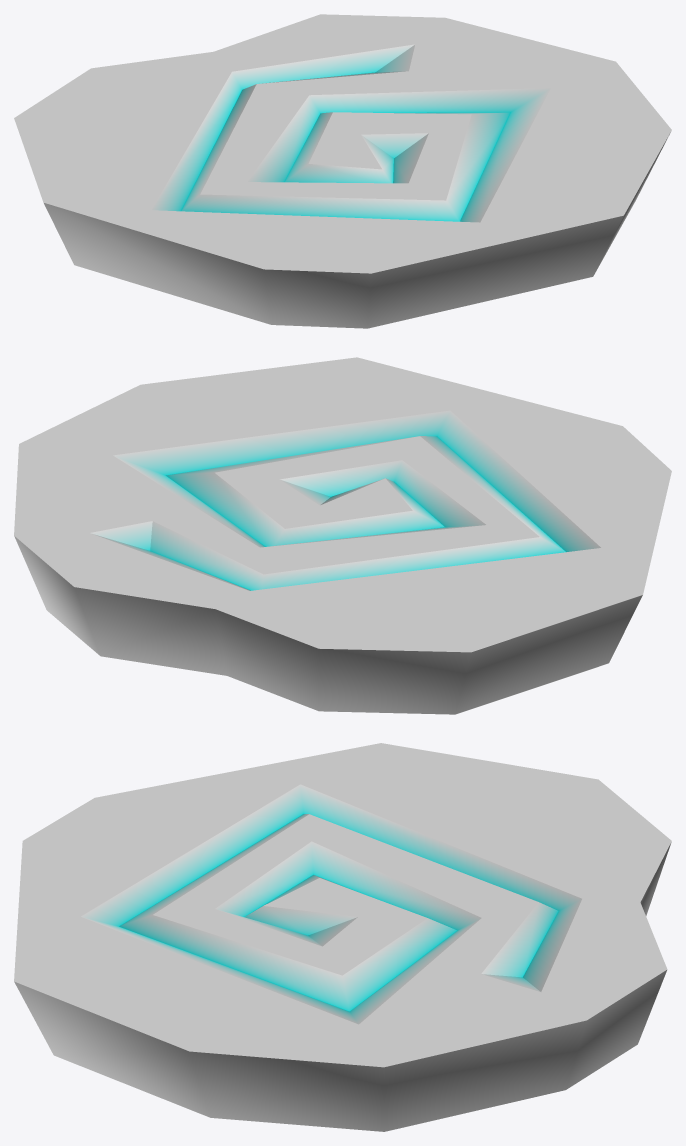
File: obstacle-geysir-lid_H3.glb
The picture shows the model from 3 angles, top to bottom: view 1: azimuth 30°, elevation 25°; view 2: azimuth 150°, elevation 25°; view 3: azimuth 270°, elevation 25°; orthographic projection. The views are drawn at different scales.
Visible parts, largest first — view 1: obstacle-geysir-lid_H3; view 2: obstacle-geysir-lid_H3; view 3: obstacle-geysir-lid_H3.
Boxes of the visible parts, <box> form: obstacle-geysir-lid_H3: <box>14,14,671,328</box>; obstacle-geysir-lid_H3: <box>14,357,671,714</box>; obstacle-geysir-lid_H3: <box>14,743,671,1131</box>.
Bounding box in the file's own units: 2.03 × 0.2379 × 1.74.
